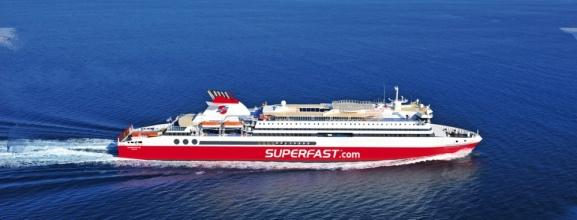yacht: (108, 80, 483, 178)
